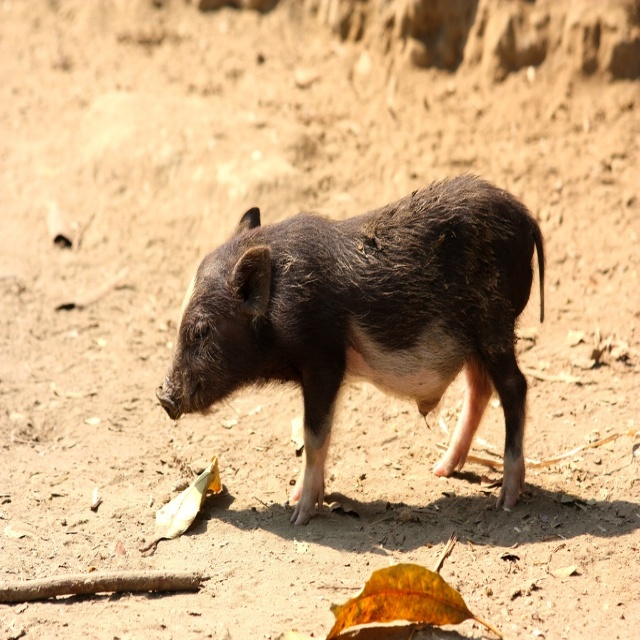Pig: (155, 166, 546, 511)
